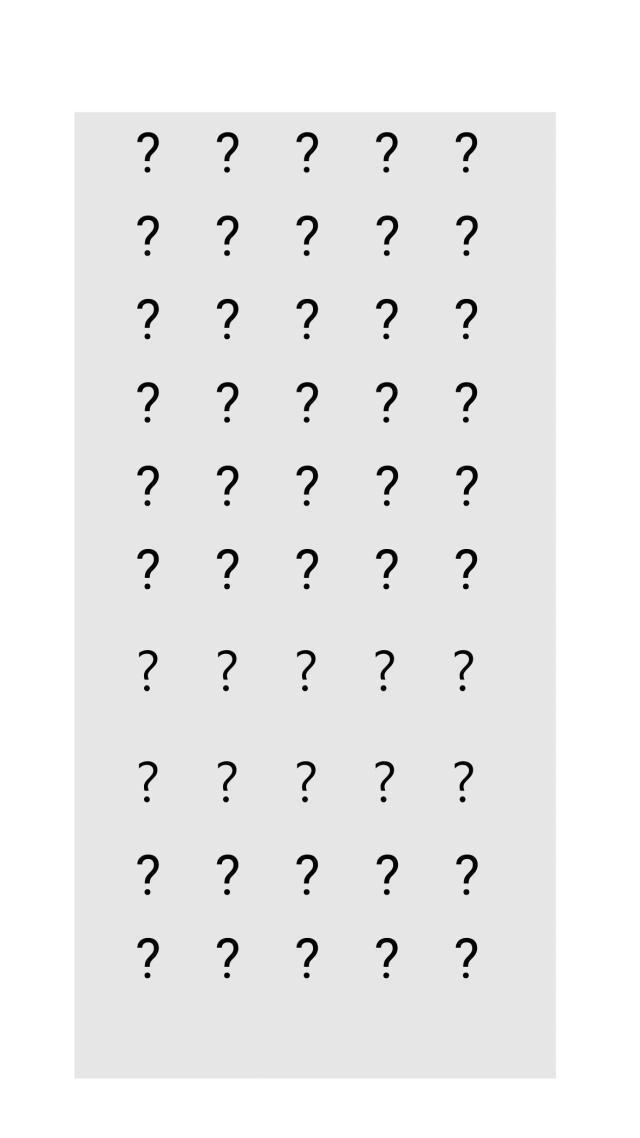ASCII: (124, 292, 170, 348), (450, 642, 480, 706), (134, 642, 164, 702), (290, 545, 326, 595), (212, 545, 248, 595), (289, 210, 325, 260), (369, 545, 404, 596), (370, 208, 403, 262), (453, 931, 483, 990), (212, 210, 245, 262), (215, 931, 244, 990), (208, 296, 242, 346), (130, 462, 165, 510), (369, 130, 404, 178), (366, 754, 398, 806), (295, 931, 323, 990), (372, 643, 399, 704), (132, 211, 167, 258), (294, 644, 322, 702), (209, 646, 243, 693), (132, 129, 166, 176), (374, 932, 402, 989), (452, 461, 483, 512), (294, 376, 324, 428), (450, 293, 480, 345), (371, 378, 403, 426), (132, 380, 166, 425), (293, 128, 323, 179), (451, 128, 482, 177), (371, 460, 401, 510), (452, 850, 482, 900), (133, 758, 164, 806), (371, 295, 403, 341), (212, 458, 240, 510), (292, 754, 320, 806), (448, 756, 476, 808), (452, 544, 481, 594), (211, 380, 243, 425), (292, 460, 322, 508), (373, 852, 403, 900), (452, 377, 480, 428), (133, 545, 163, 592), (134, 853, 164, 900), (214, 128, 244, 175), (294, 850, 322, 900), (215, 850, 243, 899), (453, 212, 482, 258), (294, 297, 322, 344), (214, 759, 241, 806), (134, 934, 160, 982)
